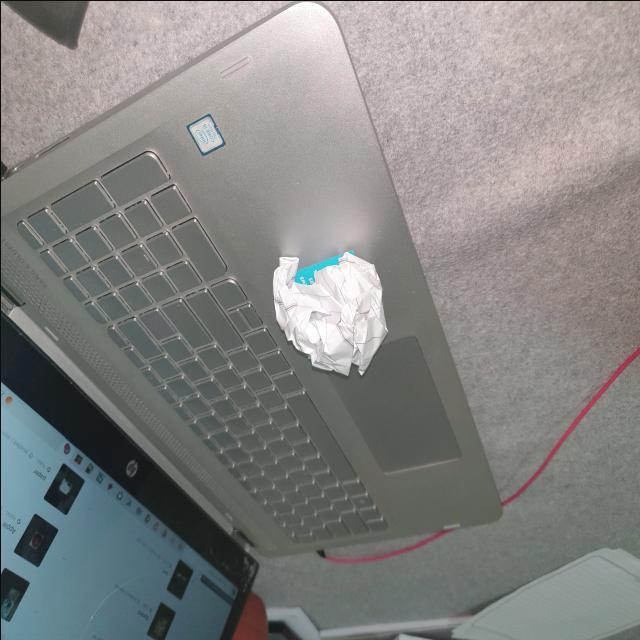Paper: (268, 248, 388, 378)
